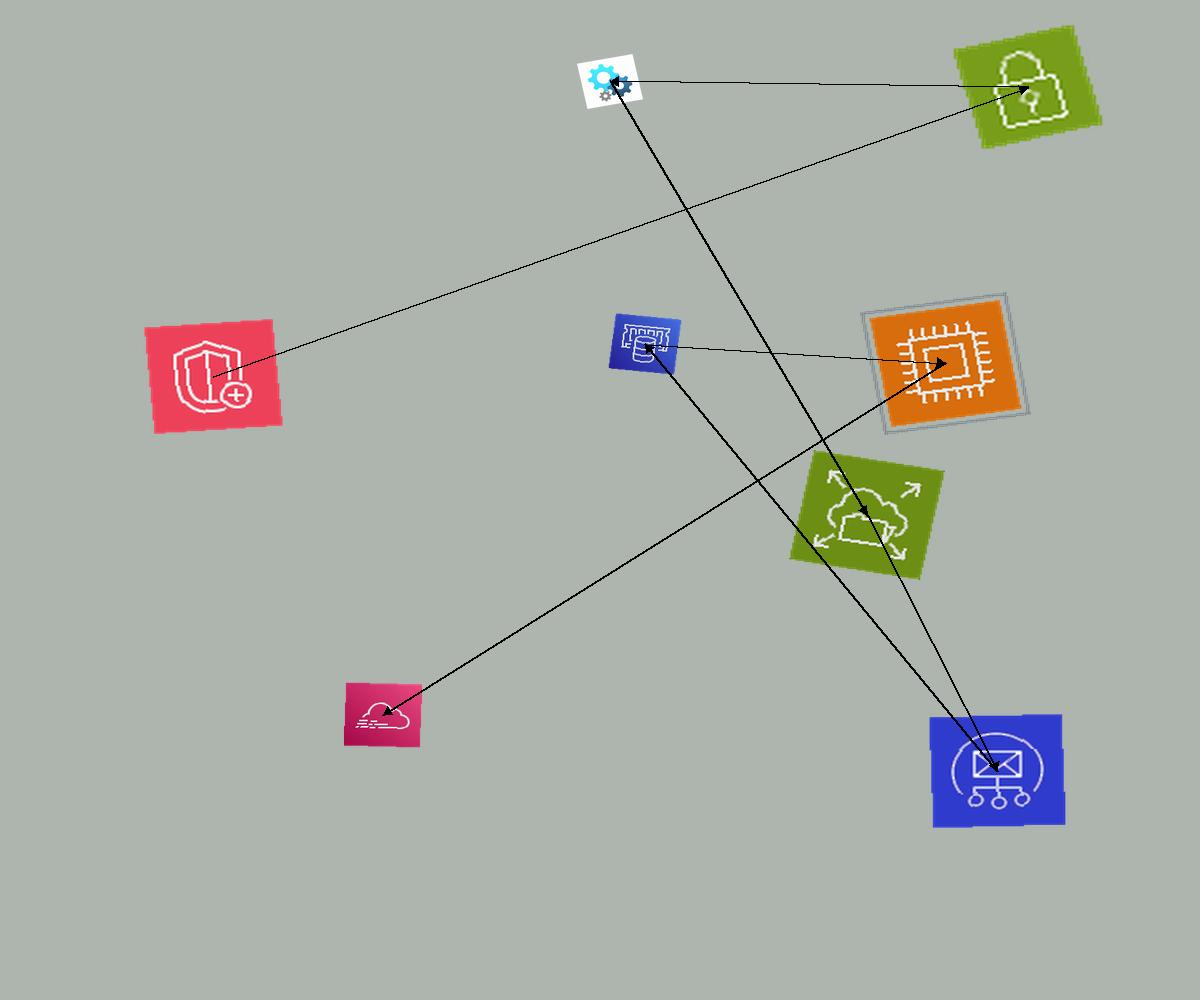AWS-Category_Compute: (860, 292, 1031, 435)
AWS-CloudTrail: (343, 682, 423, 748)
AWS-EFS: (789, 450, 945, 580)
AWS-ElastiCache: (608, 313, 682, 375)
AWS-Public-subnet: (951, 23, 1105, 151)
AWS-Shield: (143, 318, 284, 435)
AWS-Simple-Email-Service: (928, 713, 1067, 829)
Azure_api: (577, 54, 643, 109)
